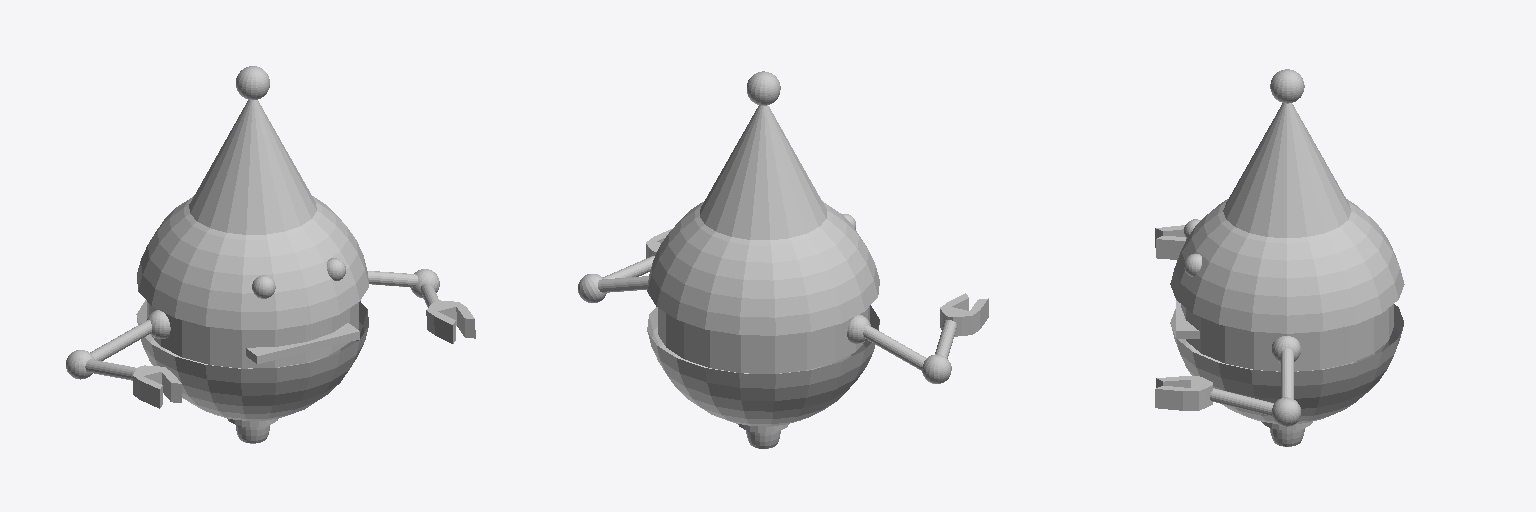
The model's file is NPC.obj.
3 views of the same model, side by side, from view 1: azimuth 30°, elevation 25°; view 2: azimuth 150°, elevation 25°; view 3: azimuth 270°, elevation 25° (orthographic).
Visible parts, largest first — view 1: pPipe2; view 2: pPipe2; view 3: pPipe2.
Boxes of the visible parts, <box> form: pPipe2: <box>66,66,475,443</box>; pPipe2: <box>578,71,988,448</box>; pPipe2: <box>1155,69,1404,446</box>.
Size of the model in its own units: 3.6 by 3.45 by 2.1.